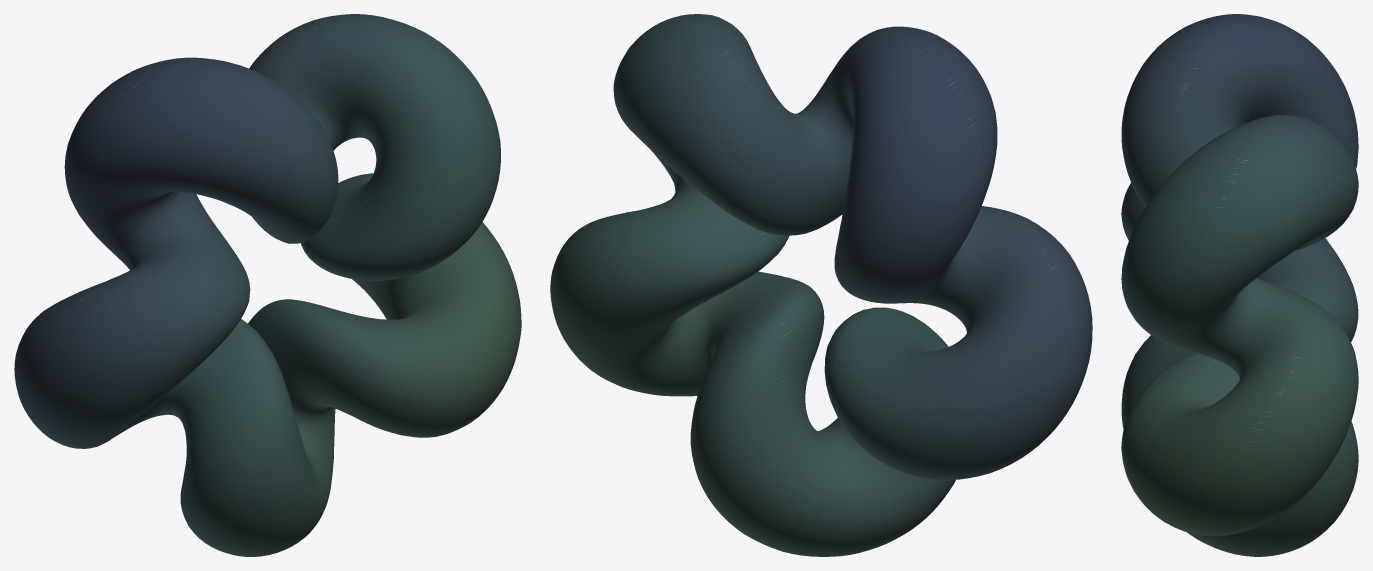
The model's file is 04_twistbud_inactive.glb.
3 views of the same model, side by side, from view 1: azimuth 30°, elevation 25°; view 2: azimuth 150°, elevation 25°; view 3: azimuth 270°, elevation 25° (orthographic). The views are drawn at different scales.
Visible parts, largest first — view 1: 08_remesh.1; view 2: 08_remesh.1; view 3: 08_remesh.1.
Part boxes in pixels (x1,y1,x2,y2): 08_remesh.1: (14, 14, 521, 556); 08_remesh.1: (550, 14, 1092, 556); 08_remesh.1: (1121, 14, 1358, 556).
Bounding box in the file's own units: 0.1308 × 0.1291 × 0.0565.
1 material, 1 textured.
